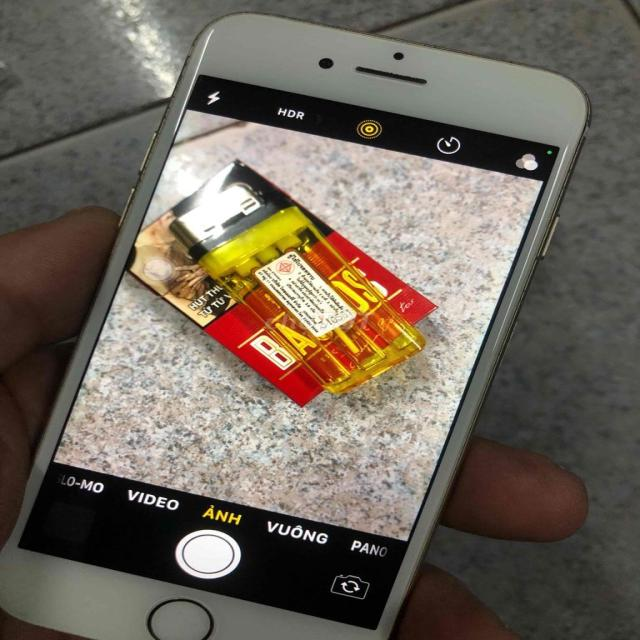gen_7_8: (2, 16, 588, 639)
